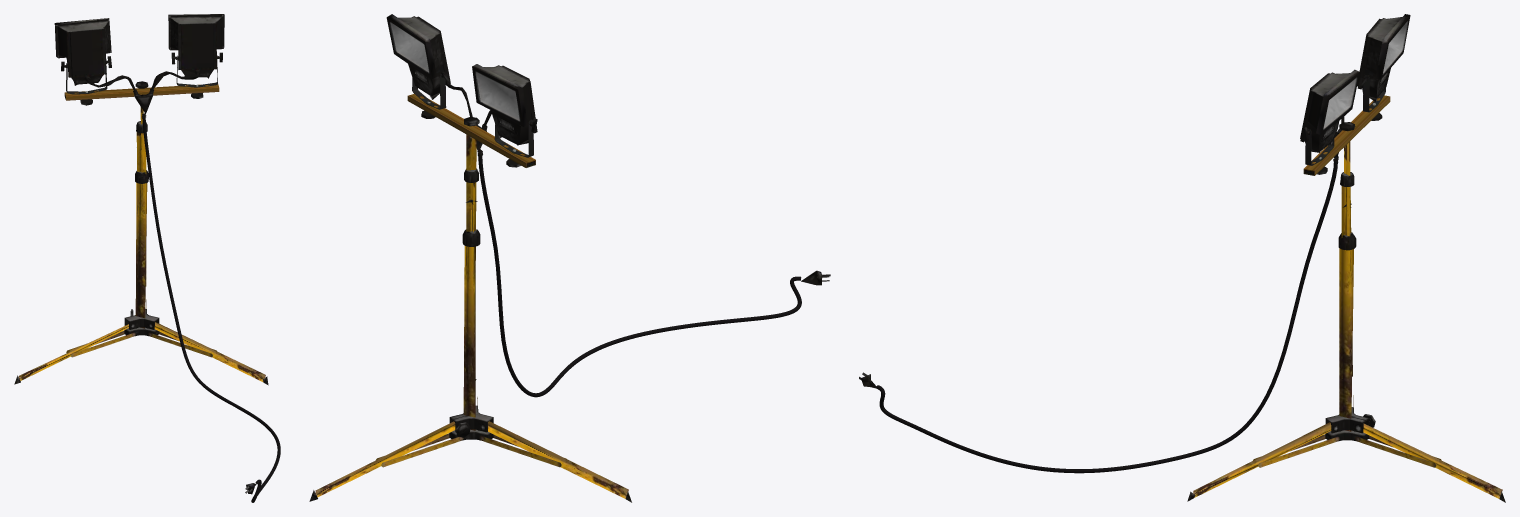
Rendered from floodlight-tripod.gltf.
3 renders of one model, left to right at view 1: azimuth 30°, elevation 25°; view 2: azimuth 150°, elevation 25°; view 3: azimuth 270°, elevation 25°, orthographic. The views are drawn at different scales.
Parts seen in each view (by area): view 1: Sketchfab_model; view 2: Sketchfab_model; view 3: Sketchfab_model.
Part boxes in pixels (x1=…): Sketchfab_model: x1=14, y1=14, x2=280, y2=502; Sketchfab_model: x1=309, y1=14, x2=830, y2=502; Sketchfab_model: x1=859, y1=14, x2=1505, y2=502.
Bounding box in the file's own units: 0.992 × 1.55 × 2.2.
Materials: 2 (2 with a texture image).
